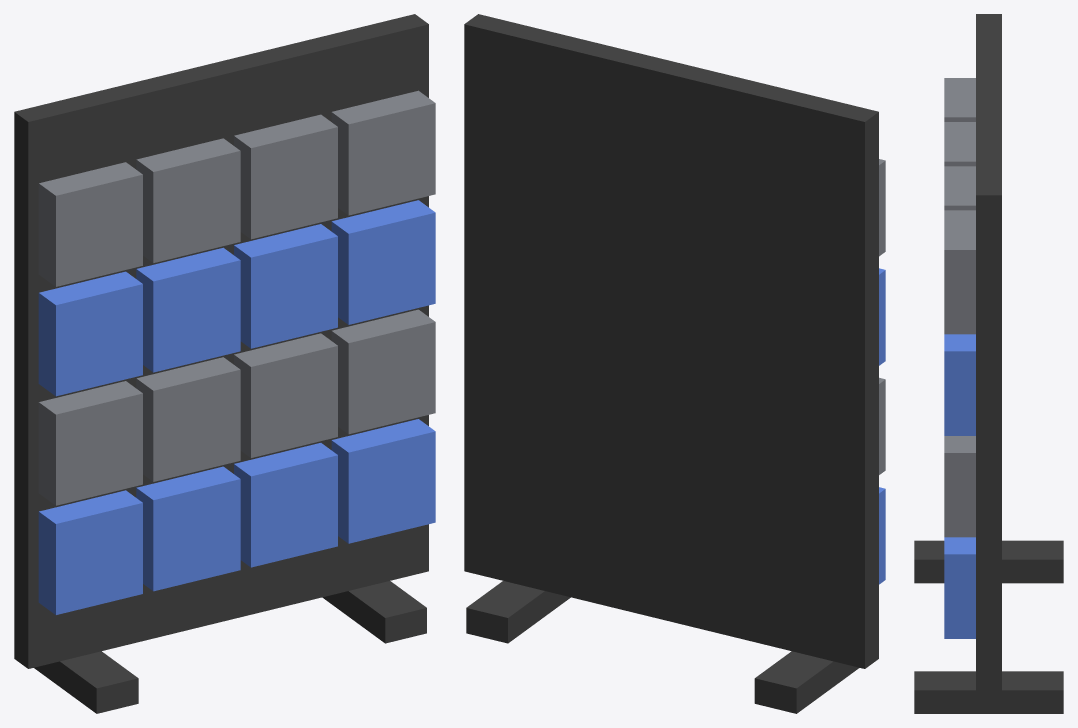
3 renders of one model, left to right at view 1: azimuth 30°, elevation 25°; view 2: azimuth 150°, elevation 25°; view 3: azimuth 270°, elevation 25°, orthographic. The views are drawn at different scales.
Parts seen in each view (by area): view 1: Panel, Absorber block.002, Absorber block.001, Absorber block, Absorber block.003, Absorber block.006, Absorber block.004, Absorber block.014, Absorber block.007, Absorber block.013, Absorber block.005, Absorber block.012 (+7 smaller); view 2: Panel, Panel foot, Panel foot.001, Absorber block, Absorber block.001, Absorber block.002, Absorber block.003; view 3: Panel, Panel foot.001, Panel foot, Absorber block.015, Absorber block.012, Absorber block.013, Absorber block.014, Absorber block.007, Absorber block.011, Absorber block.003.
Part boxes in pixels (bbox=[...]): Panel: bbox=[14, 14, 428, 668]; Absorber block.002: bbox=[38, 271, 142, 396]; Absorber block.001: bbox=[38, 381, 142, 505]; Absorber block: bbox=[38, 490, 142, 614]; Absorber block.003: bbox=[38, 162, 142, 286]; Absorber block.006: bbox=[136, 247, 240, 372]; Absorber block.004: bbox=[136, 466, 240, 591]; Absorber block.014: bbox=[331, 200, 435, 324]; Absorber block.007: bbox=[136, 138, 240, 262]; Absorber block.013: bbox=[331, 309, 435, 434]; Absorber block.005: bbox=[136, 357, 240, 481]; Absorber block.012: bbox=[331, 419, 435, 543]; Panel: bbox=[464, 14, 878, 668]; Panel foot: bbox=[754, 651, 859, 713]; Panel foot.001: bbox=[466, 581, 570, 643]; Absorber block: bbox=[879, 487, 885, 584]; Absorber block.001: bbox=[879, 377, 885, 474]; Absorber block.002: bbox=[879, 268, 885, 365]; Absorber block.003: bbox=[879, 159, 885, 256]; Panel: bbox=[976, 14, 1001, 702]; Panel foot.001: bbox=[914, 671, 1063, 713]; Panel foot: bbox=[914, 540, 1063, 583]; Absorber block.015: bbox=[944, 210, 975, 334]; Absorber block.012: bbox=[944, 537, 975, 638]; Absorber block.013: bbox=[944, 436, 975, 537]; Absorber block.014: bbox=[944, 334, 975, 435]; Absorber block.007: bbox=[944, 122, 975, 166]; Absorber block.011: bbox=[944, 166, 975, 210]; Absorber block.003: bbox=[944, 78, 975, 121].
Bounding box in the file's own units: 1.15 × 1.58 × 0.4.
Materials: 1 (1 with a texture image).
